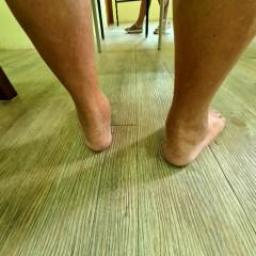Back View -Both Feet-: (47, 76, 239, 186)
